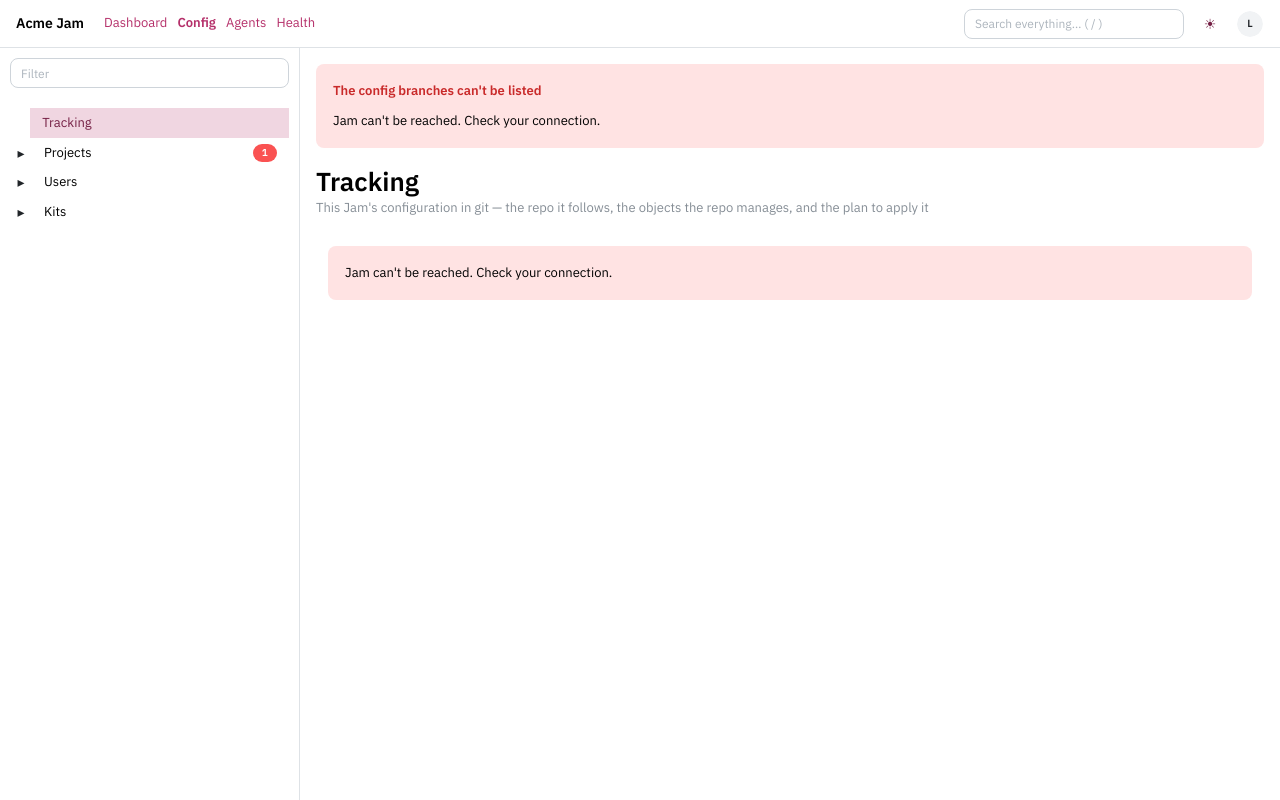
Test: the Config tree › filters
The image size is (1280, 800).
Expected: the link "Projects 1" is shown, top-left (32, 138), bottom-right (289, 167)
Type "ali" into the field with placeholder "Filter" at (150, 73), box top-left (10, 58), bottom-right (289, 88)
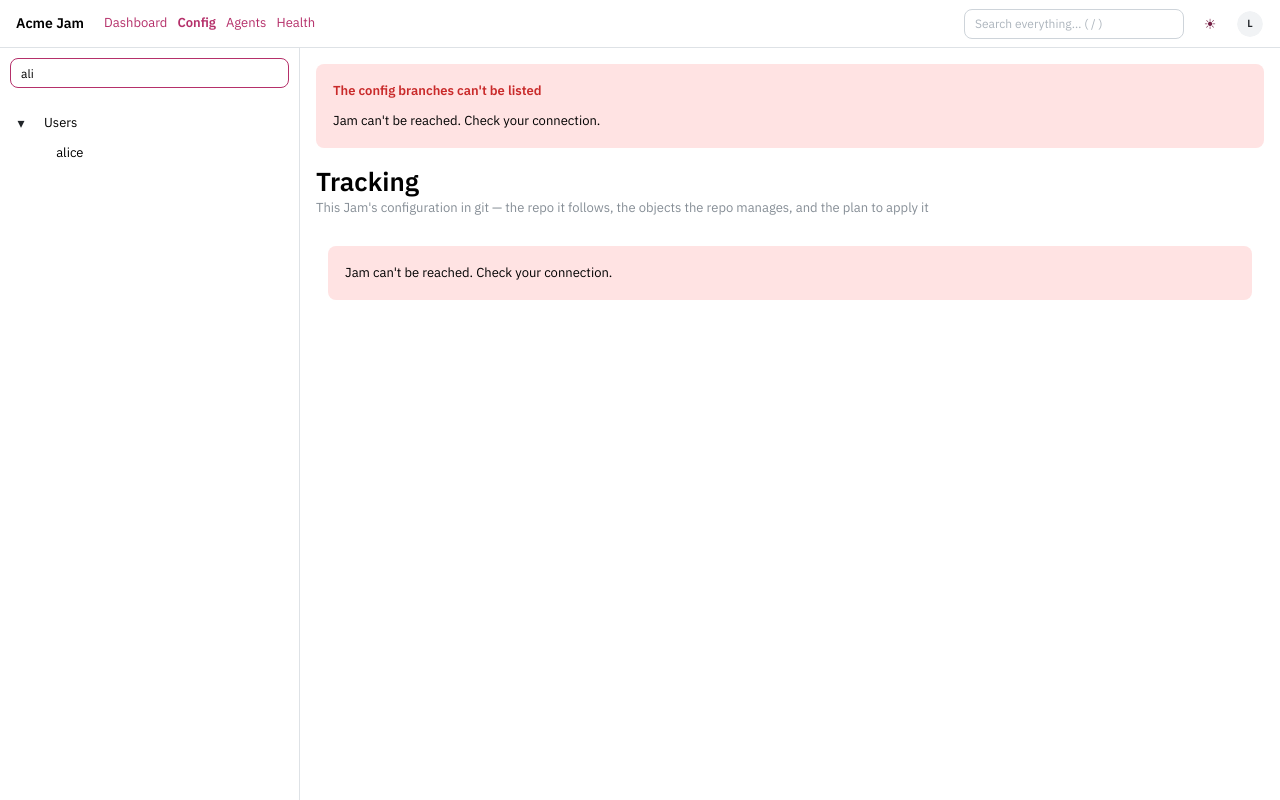
Expected: the link "alice" is shown, top-left (56, 144), bottom-right (84, 161)
Expected: the link "Projects" is gone
